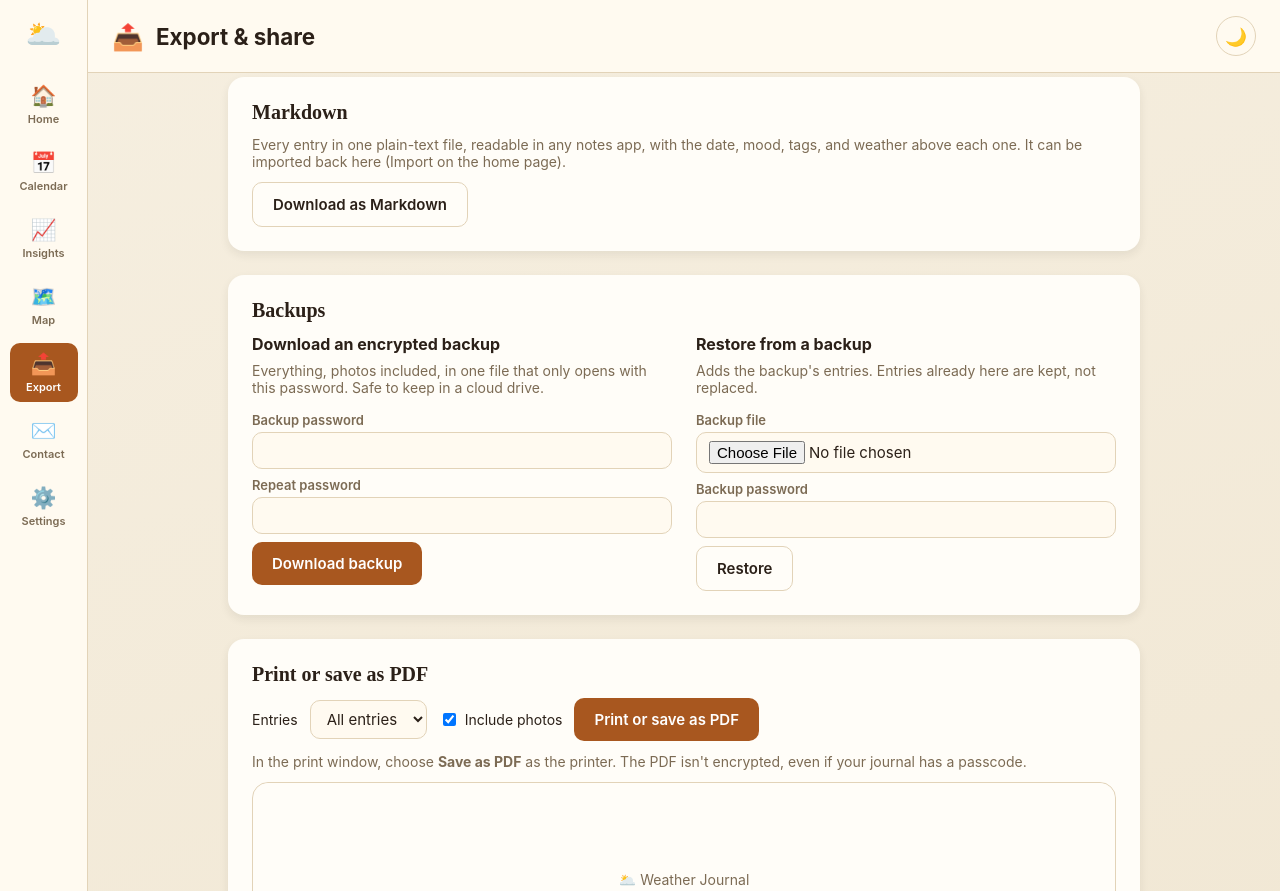
Encrypted backups (Export page) › checks the backup password before encrypting
(page scrolled)
Type "short" into the password field labelled "Backup password" below "Download an encrypted backup". click: [462, 450]
box: [252,432,672,469]
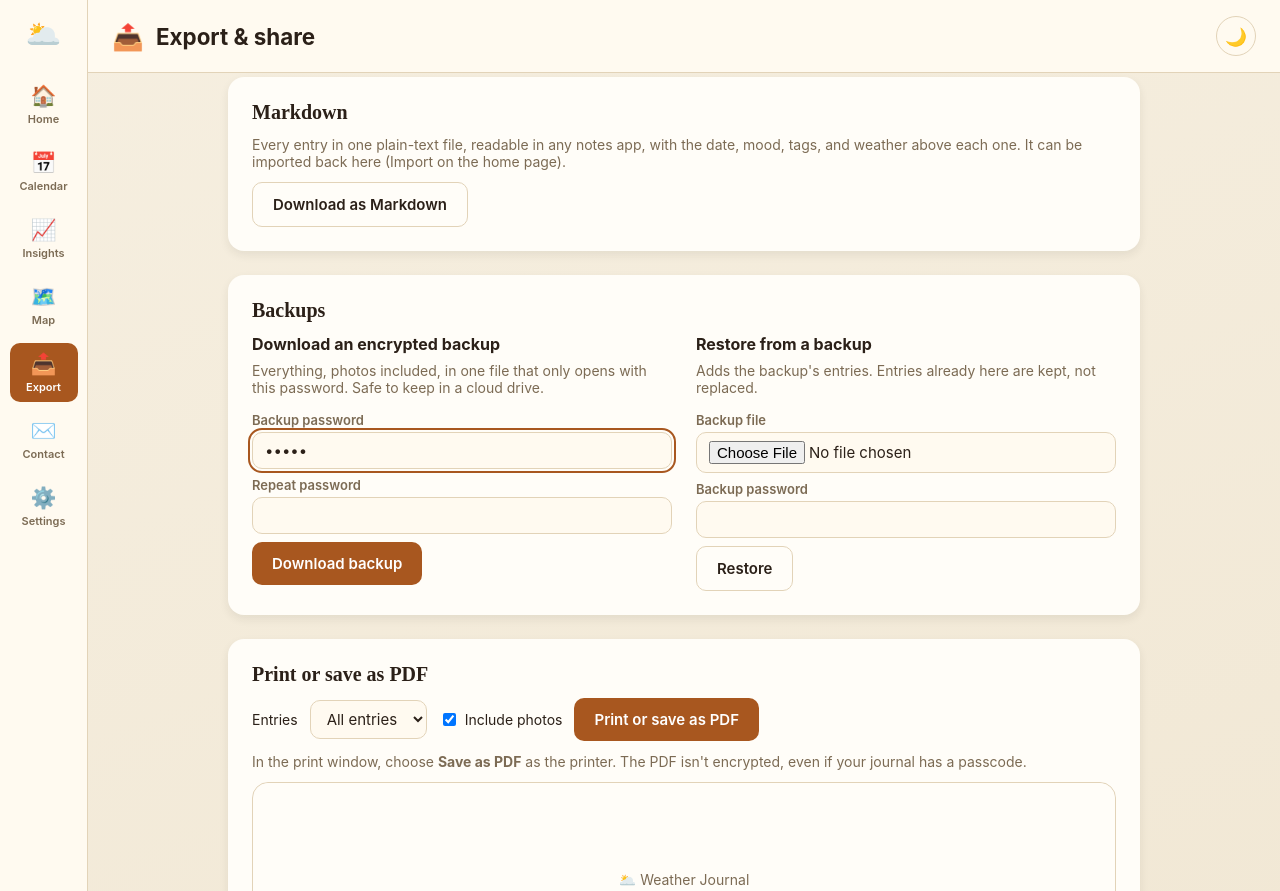
Type "short" into the password field labelled "Repeat password". click: [462, 516]
box: [252,497,672,534]
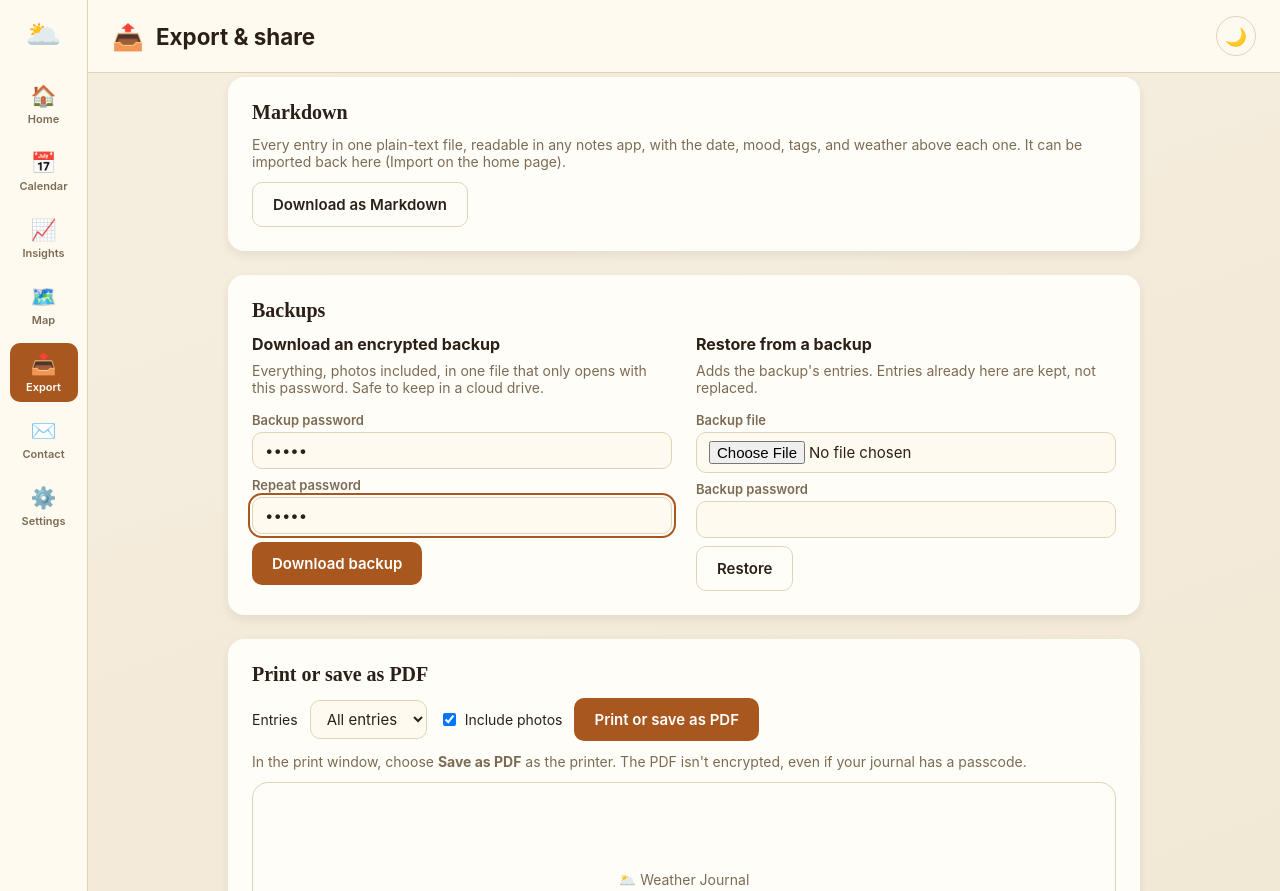
Click the button "Download backup". click: [337, 564]
box: [252,542,422,585]
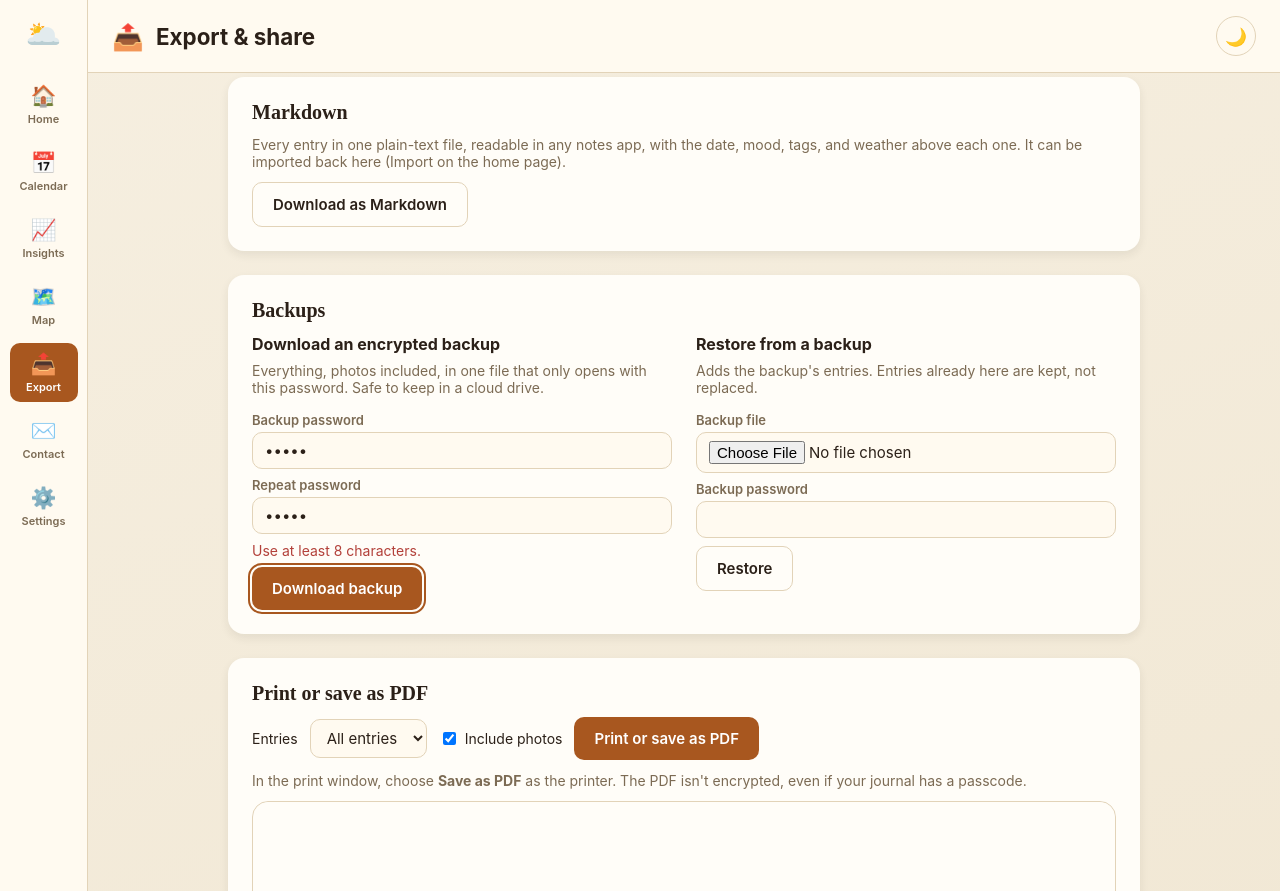
Now the message shows "at least 8 characters", box [252,542,421,559]
